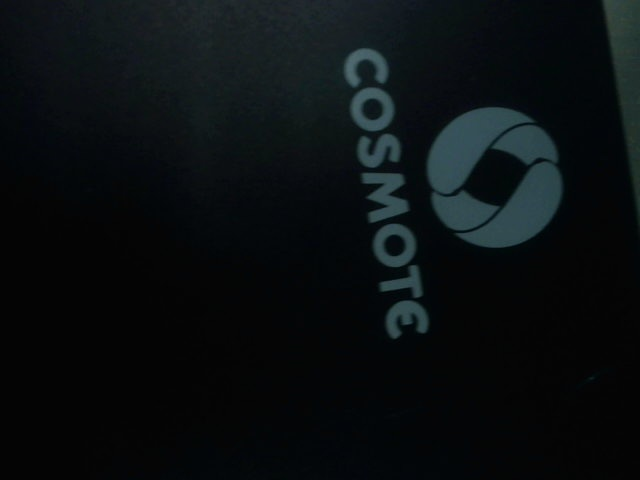AU_COSMOTE: (320, 42, 579, 337)
